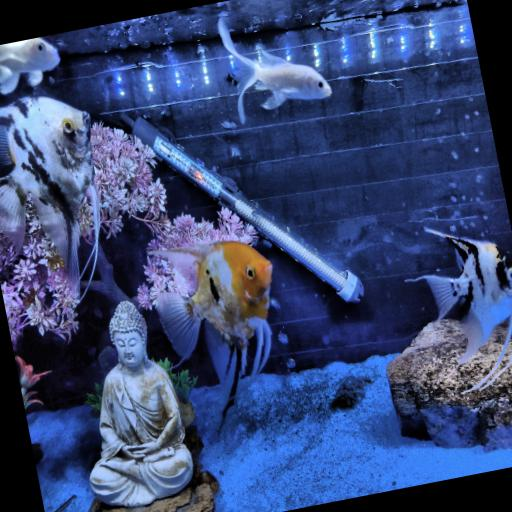Fish: (151, 242, 271, 416), (0, 97, 98, 298), (420, 229, 511, 389), (218, 19, 330, 123), (0, 37, 58, 94)
